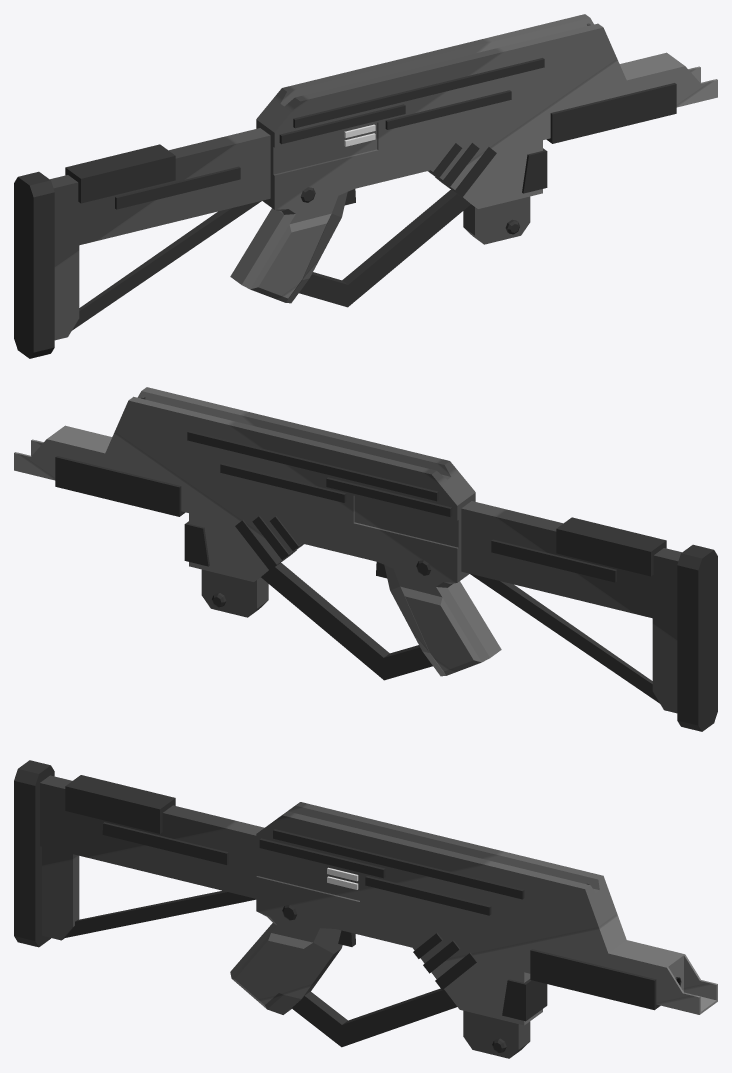
The model's file is Rifle_A_V2.FBX.
3 views of the same model, one above another, from view 1: azimuth 30°, elevation 25°; view 2: azimuth 150°, elevation 25°; view 3: azimuth 330°, elevation 25° (orthographic).
Visible parts, largest first — view 1: Rifle_A_V2, Magazine; view 2: Rifle_A_V2, Magazine; view 3: Rifle_A_V2, Magazine.
Boxes of the visible parts, <box> form: Rifle_A_V2: <box>14,14,717,358</box>; Magazine: <box>463,196,530,244</box>; Rifle_A_V2: <box>14,387,717,731</box>; Magazine: <box>201,569,268,617</box>; Rifle_A_V2: <box>14,760,717,1047</box>; Magazine: <box>463,1010,530,1058</box>.
Size of the model in its own units: 396 by 123 by 23.39.
